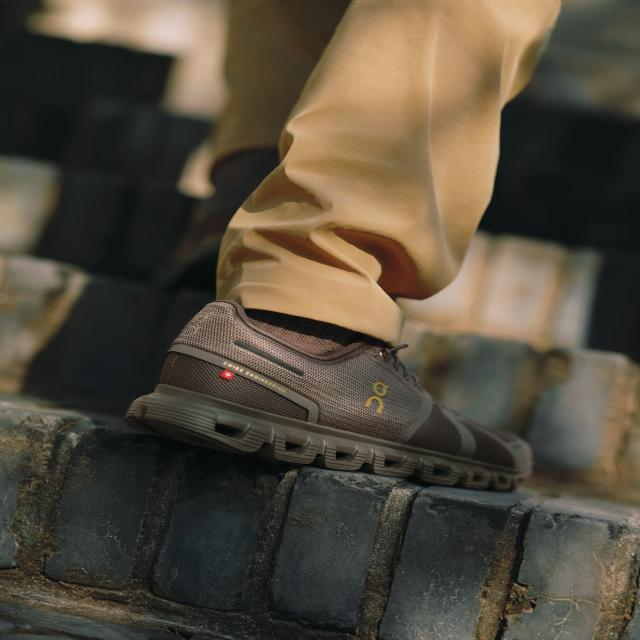OC_logo: (341, 360, 427, 438)
